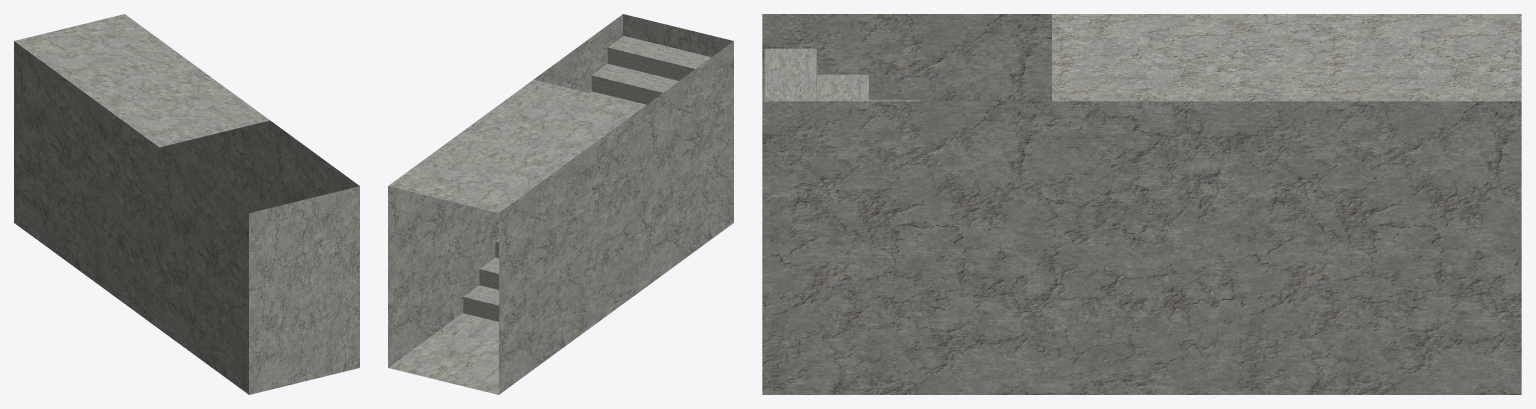
Rendered from Corredor.obj.
The picture shows the model from 3 angles, left to right: view 1: azimuth 30°, elevation 25°; view 2: azimuth 150°, elevation 25°; view 3: azimuth 270°, elevation 25°; orthographic projection. The views are drawn at different scales.
Parts seen in each view (by area): view 1: Corredor:pCube11; view 2: Corredor:pCube11, Corredor:pCube10, Corredor:pCube9, Corredor:pCube1, Corredor:pCube2; view 3: Corredor:pCube11, Corredor:pCube10, Corredor:pCube9.
Boxes of the visible parts, <box> form: Corredor:pCube11: <box>14,14,359,394</box>; Corredor:pCube11: <box>388,14,733,394</box>; Corredor:pCube10: <box>607,36,711,80</box>; Corredor:pCube9: <box>591,63,678,104</box>; Corredor:pCube1: <box>463,285,498,321</box>; Corredor:pCube2: <box>479,257,498,289</box>; Corredor:pCube11: <box>762,14,1521,394</box>; Corredor:pCube10: <box>764,48,816,101</box>; Corredor:pCube9: <box>817,74,868,101</box>.
Size of the model in its own units: 3.98 by 6.24 by 14.63.
Materials: 1 (1 with a texture image).
